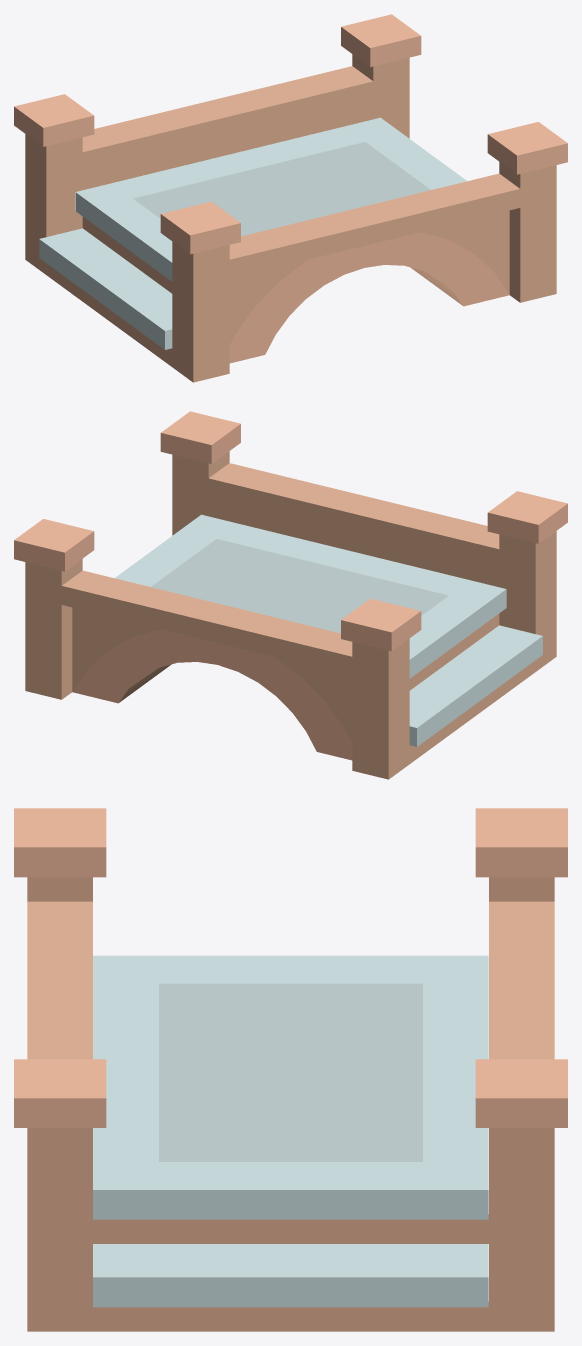
The model's file is bridge_woodRoundNarrow.glb.
3 renders of one model, top to bottom at view 1: azimuth 30°, elevation 25°; view 2: azimuth 150°, elevation 25°; view 3: azimuth 270°, elevation 25°, orthographic. The views are drawn at different scales.
Visible parts, largest first — view 1: bridge_woodRoundNarrow; view 2: bridge_woodRoundNarrow; view 3: bridge_woodRoundNarrow.
Boxes of the visible parts, box(x1,y1,x2,y2) form: bridge_woodRoundNarrow: box(14, 14, 567, 382); bridge_woodRoundNarrow: box(14, 411, 567, 779); bridge_woodRoundNarrow: box(14, 808, 567, 1331).
Size of the model in its own units: 1.04 by 0.3999 by 0.84.
